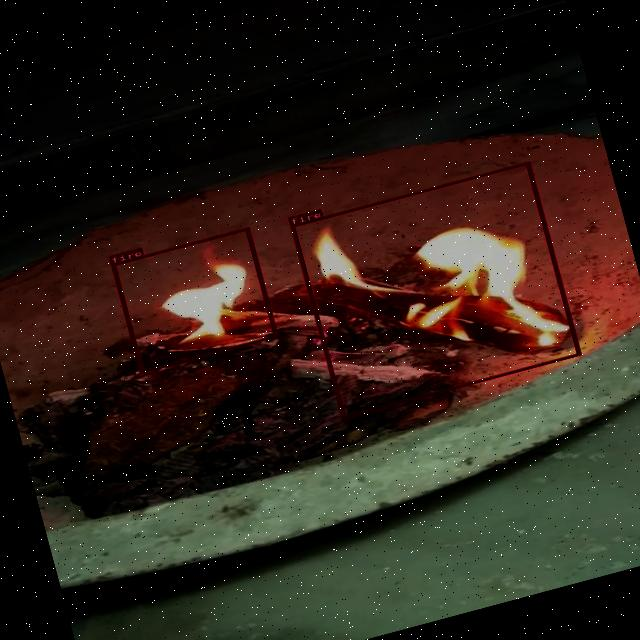fire: (290, 161, 580, 418), (110, 226, 276, 372)
